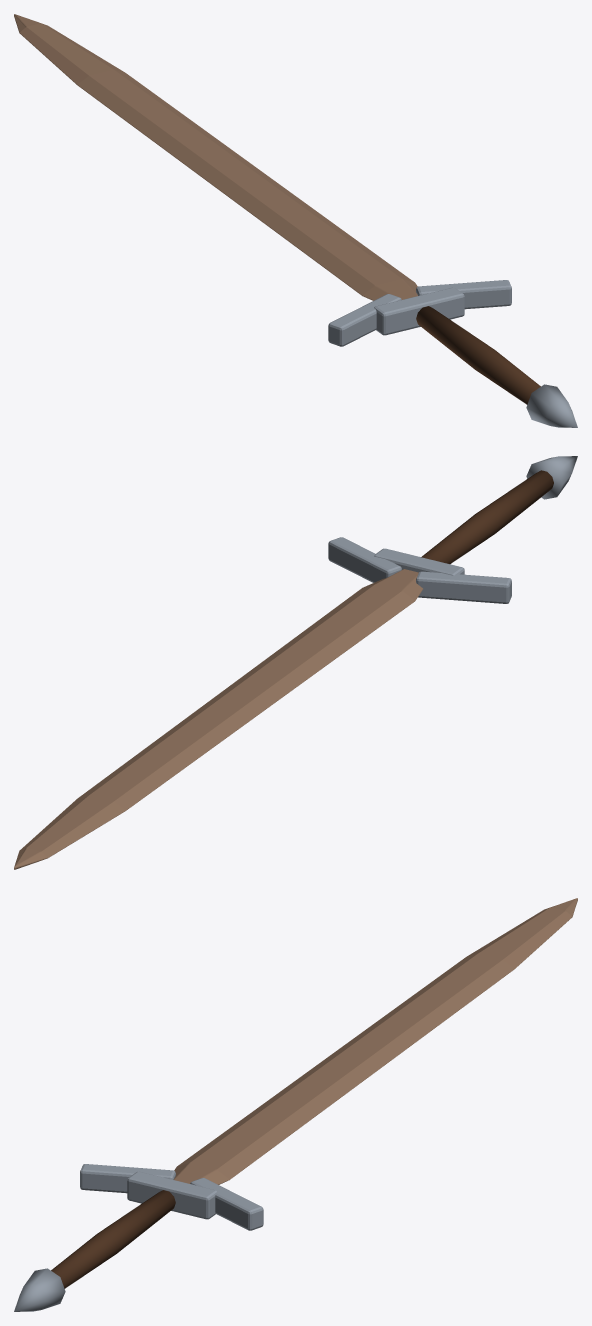
The model's file is greatsword_11_fuller_rusty.glb.
The picture shows the model from 3 angles, top to bottom: view 1: azimuth 30°, elevation 25°; view 2: azimuth 150°, elevation 25°; view 3: azimuth 330°, elevation 25°; orthographic projection.
Visible parts, largest first — view 1: 11_fuller_rusty_Blade, 11_fuller_rusty_Guard, 11_fuller_rusty_Grip, 11_fuller_rusty_Pommel; view 2: 11_fuller_rusty_Blade, 11_fuller_rusty_Guard, 11_fuller_rusty_Grip, 11_fuller_rusty_Pommel; view 3: 11_fuller_rusty_Blade, 11_fuller_rusty_Guard, 11_fuller_rusty_Grip, 11_fuller_rusty_Pommel.
Part boxes in pixels (x1,y1,x2,y2): 11_fuller_rusty_Blade: [14, 14, 417, 300]; 11_fuller_rusty_Guard: [328, 280, 511, 346]; 11_fuller_rusty_Grip: [416, 306, 540, 404]; 11_fuller_rusty_Pommel: [526, 384, 577, 427]; 11_fuller_rusty_Blade: [14, 569, 422, 869]; 11_fuller_rusty_Guard: [328, 537, 511, 603]; 11_fuller_rusty_Grip: [421, 470, 553, 563]; 11_fuller_rusty_Pommel: [526, 456, 577, 499]; 11_fuller_rusty_Blade: [174, 898, 577, 1184]; 11_fuller_rusty_Guard: [80, 1164, 263, 1230]; 11_fuller_rusty_Grip: [51, 1190, 175, 1288]; 11_fuller_rusty_Pommel: [14, 1268, 65, 1311].
Bounding box in the file's own units: 0.2789 × 0.056 × 1.51.
